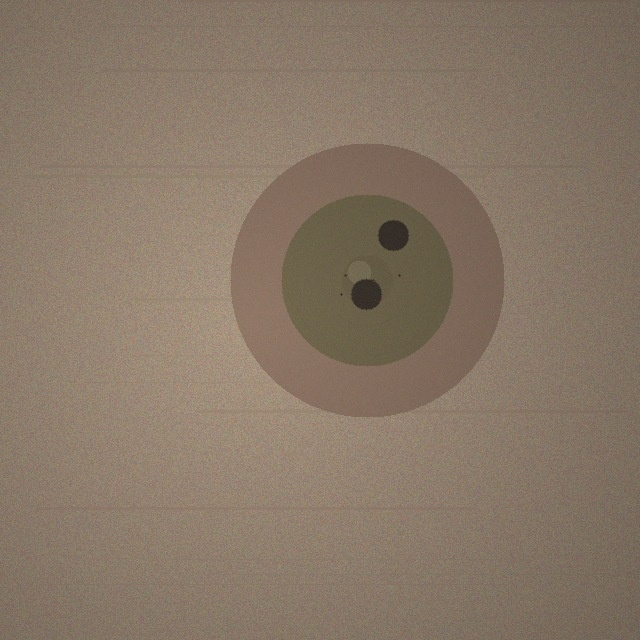shrinkage: (230, 143, 504, 417)
